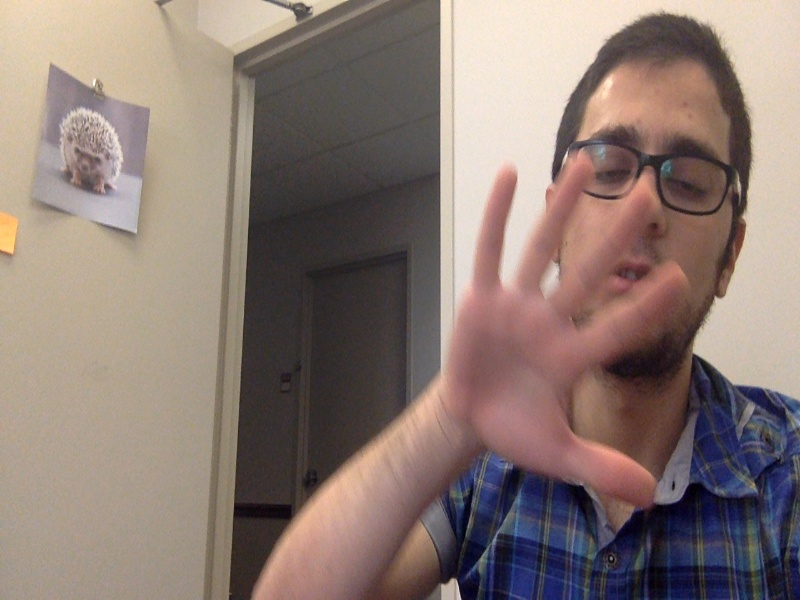5-hand: (438, 155, 686, 509)
